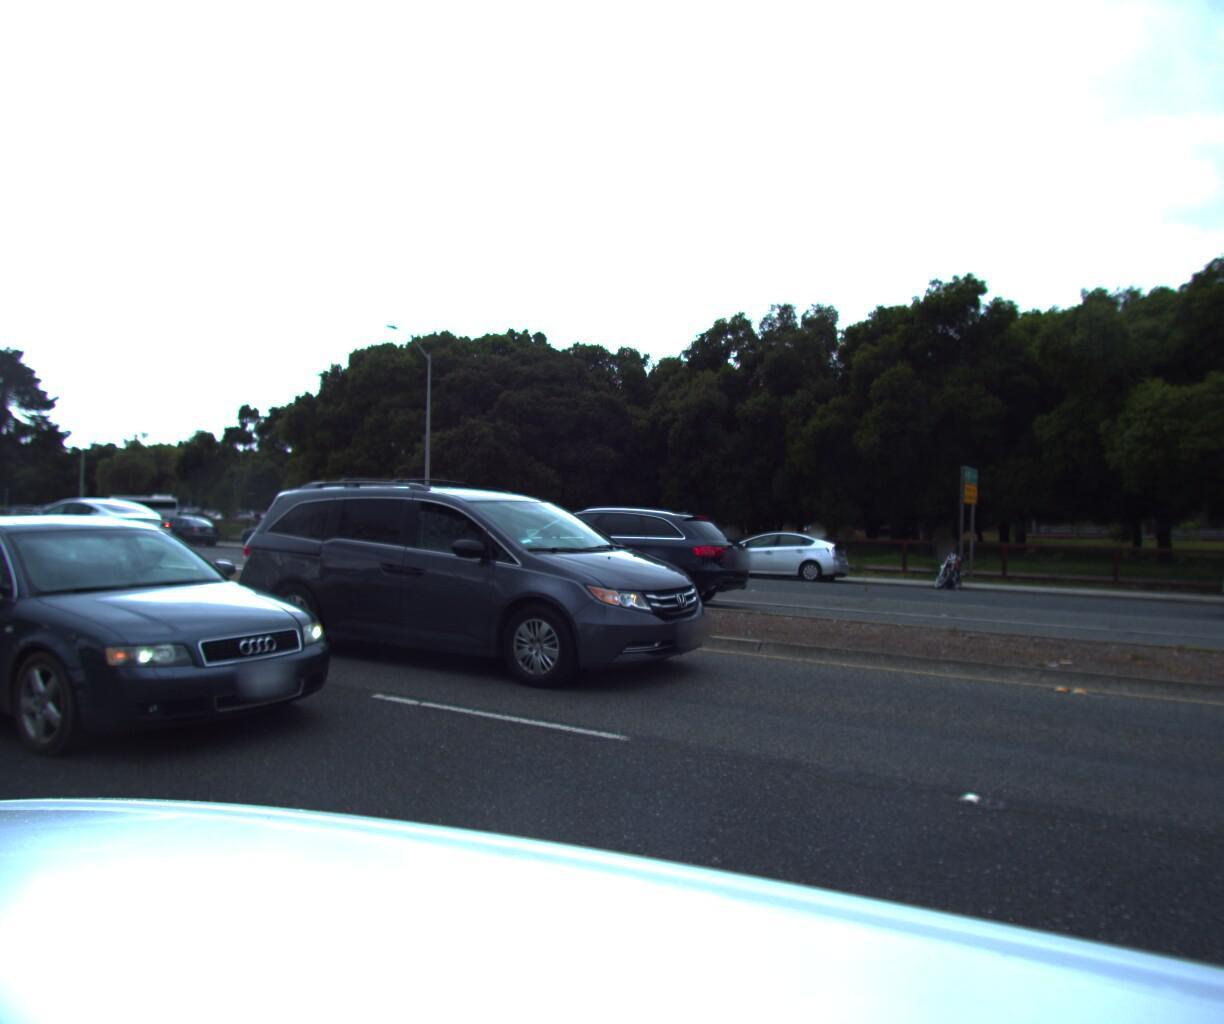car: (227, 468, 736, 711), (0, 505, 386, 795), (458, 504, 780, 616), (0, 498, 188, 563), (694, 529, 854, 589), (235, 515, 348, 558), (132, 515, 228, 551), (0, 488, 7, 549)
motorcycle: (927, 538, 974, 596)
